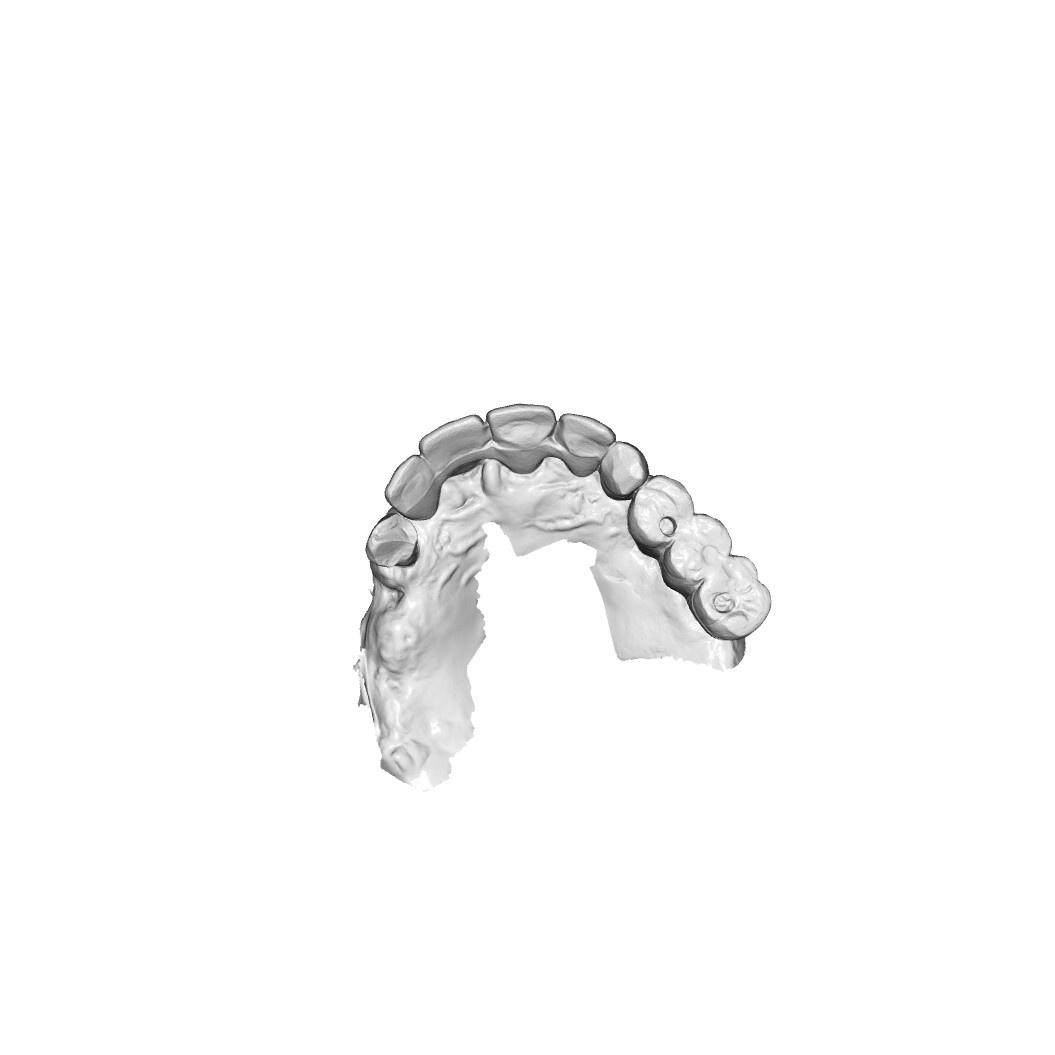canine: (365, 512, 421, 571), (598, 441, 649, 502)
incisor: (483, 403, 560, 464), (416, 413, 486, 475), (383, 454, 441, 522), (557, 413, 613, 472)
molar: (691, 553, 773, 643), (661, 511, 735, 588)
premolar: (626, 472, 698, 553)
